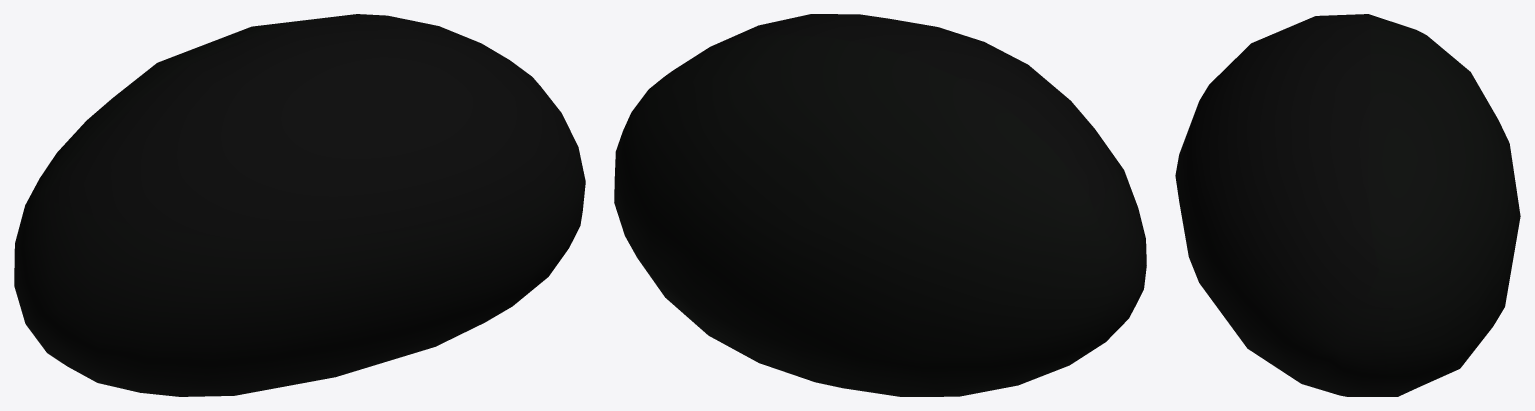
Rendered from nose.obj.
The picture shows the model from 3 angles, left to right: view 1: azimuth 30°, elevation 25°; view 2: azimuth 150°, elevation 25°; view 3: azimuth 270°, elevation 25°; orthographic projection. The views are drawn at different scales.
Parts seen in each view (by area): view 1: nose Jake; view 2: nose Jake; view 3: nose Jake.
Boxes of the visible parts, x1,y1,x2,y2 form: nose Jake: (14, 14, 585, 396); nose Jake: (614, 14, 1146, 396); nose Jake: (1175, 14, 1520, 396).
Bounding box in the file's own units: 1.02 × 0.6216 × 0.6352.
